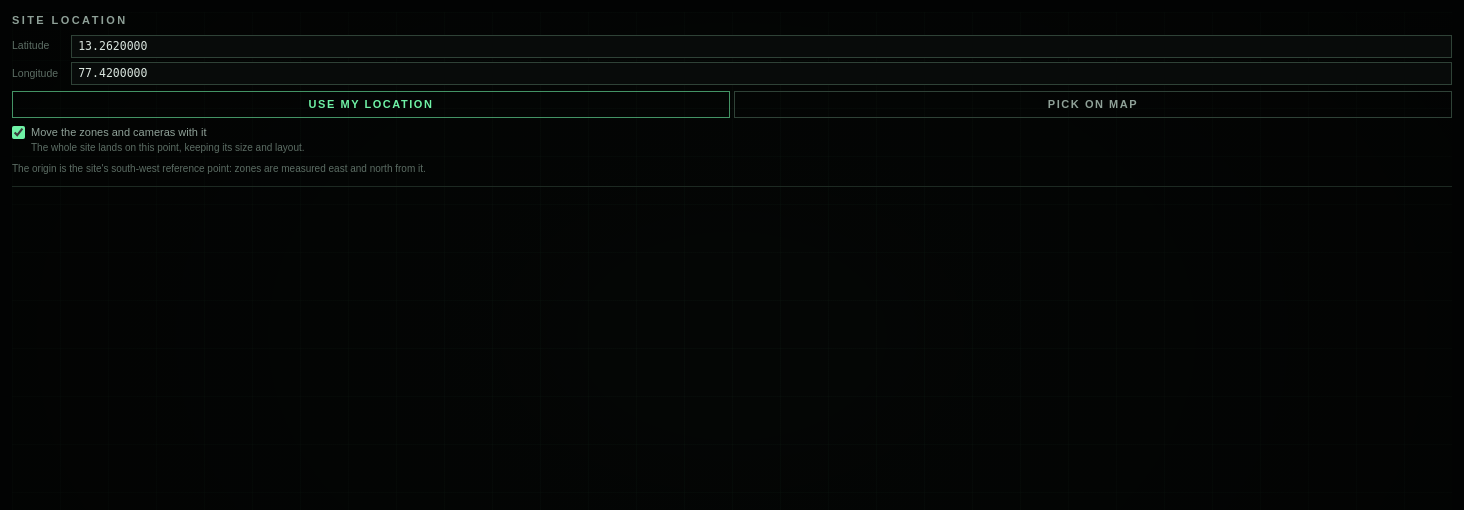
Test: site location › explains a refused permission instead of failing silently
What coordinates should you click on to do the following:
click the button "Use my location"
I would click on:
 (371, 104)
Its box is [12,91,730,118].
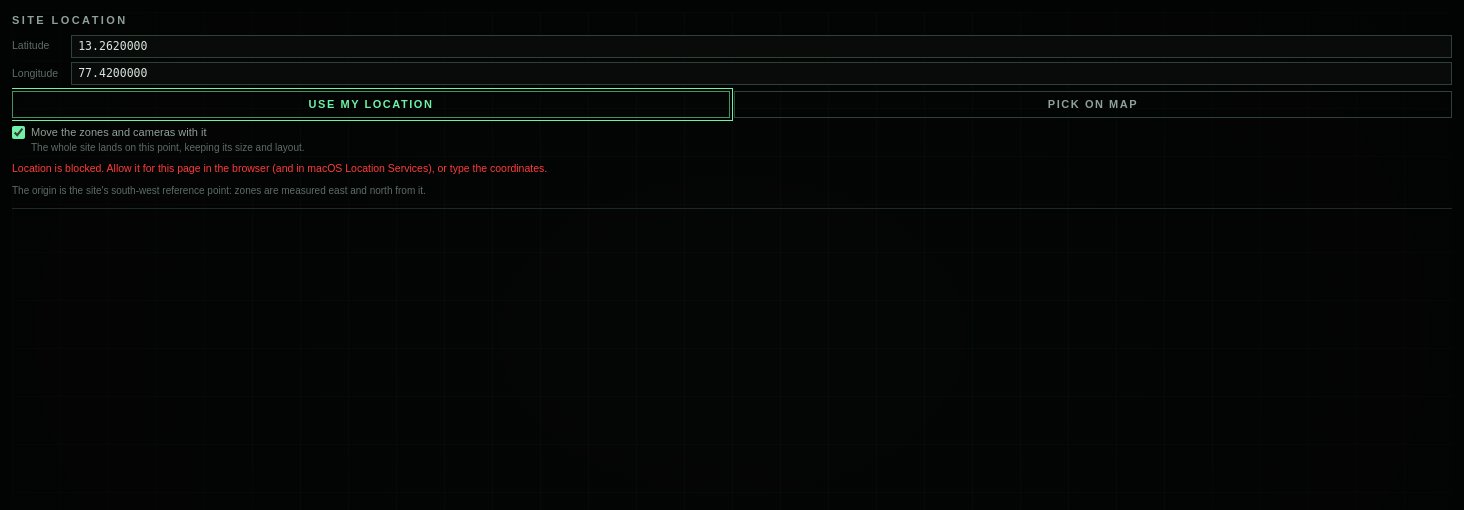
Expected: the text "Location is blocked" is shown, [12,162,547,174]
